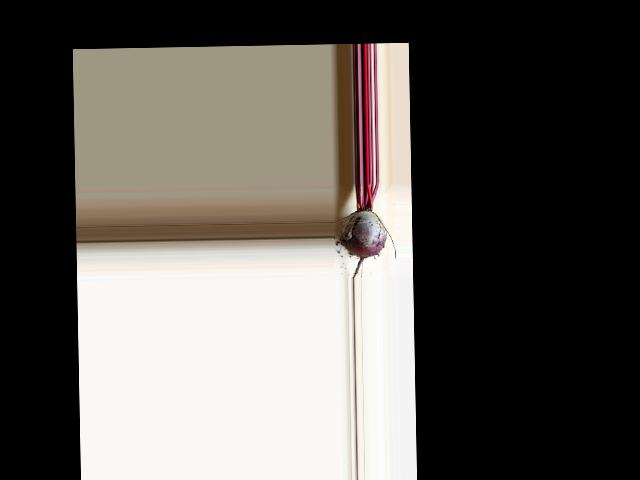beet: (339, 183, 396, 279)
